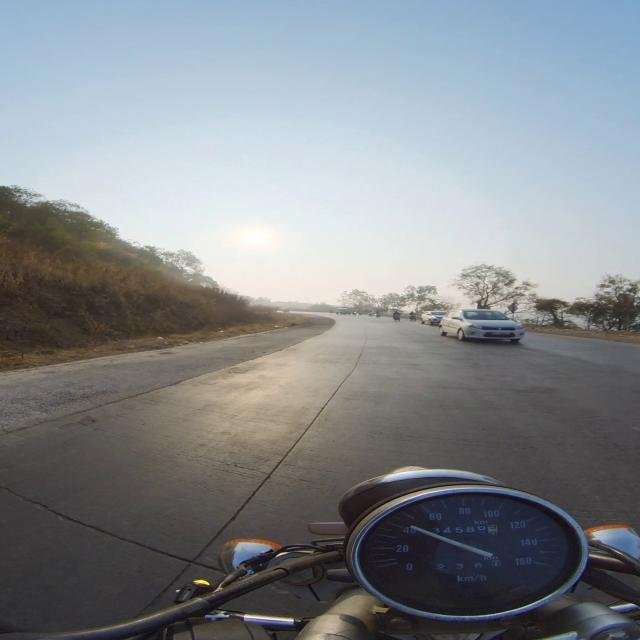car: (440, 309, 525, 342), (422, 311, 446, 325)
motorcycle: (4, 467, 639, 639)
